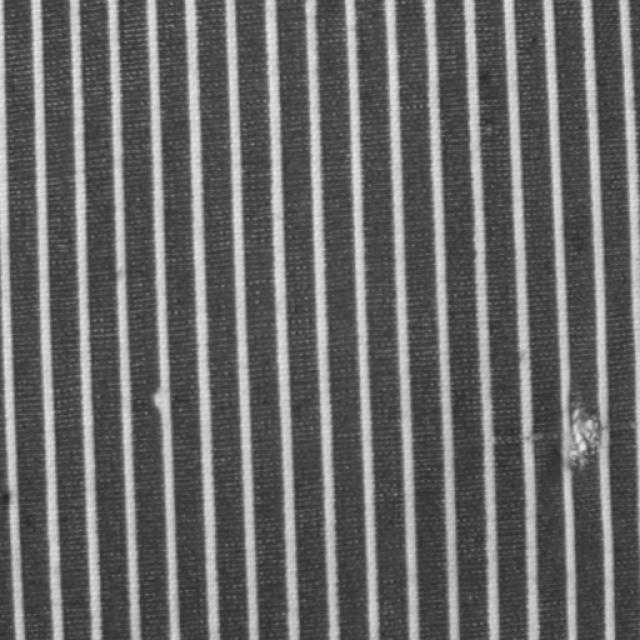Hole-Defect: (495, 402, 635, 468), (146, 380, 170, 420)
